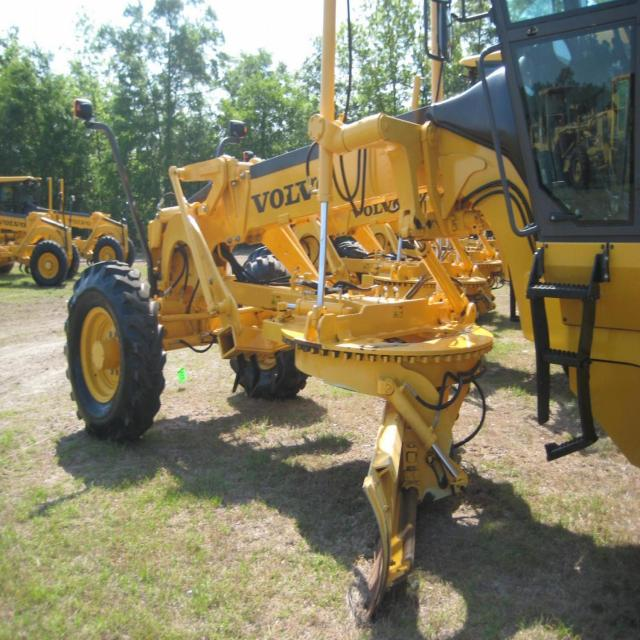Grader: (56, 6, 639, 624)
